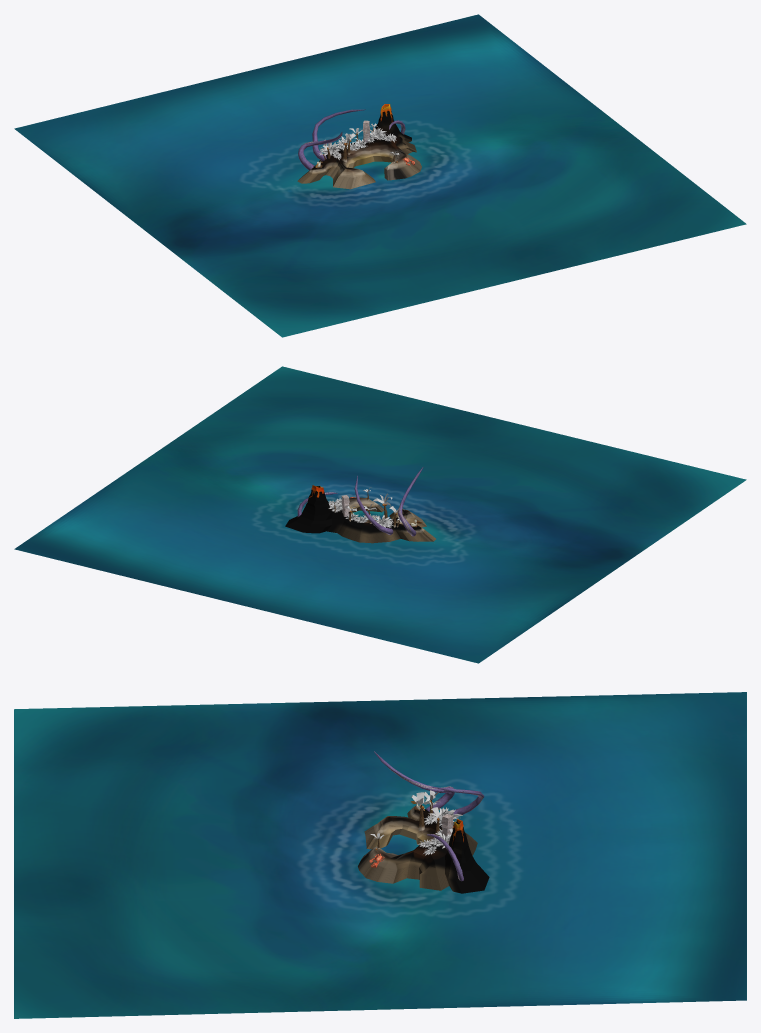
The model's file is FantasyIsland_MatthewV_v15.fbx.
3 views of the same model, one above another, from view 1: azimuth 30°, elevation 25°; view 2: azimuth 150°, elevation 25°; view 3: azimuth 270°, elevation 25° (orthographic). The views are drawn at different scales.
Visible parts, largest first — view 1: Sea.001, CrabIsland; view 2: Sea.001, CrabIsland; view 3: Sea.001, CrabIsland, KrakenTentacle1st.001.
Boxes of the visible parts, x1=… form: Sea.001: x1=14, y1=14, x2=746, y2=337; CrabIsland: x1=297, y1=108, x2=421, y2=189; Sea.001: x1=14, y1=366, x2=746, y2=663; CrabIsland: x1=285, y1=486, x2=435, y2=543; Sea.001: x1=14, y1=692, x2=746, y2=1018; CrabIsland: x1=358, y1=805, x2=489, y2=893; KrakenTentacle1st.001: x1=374, y1=751, x2=454, y2=813.
Bounding box in the file's own units: 10190 × 1460 × 10190.
